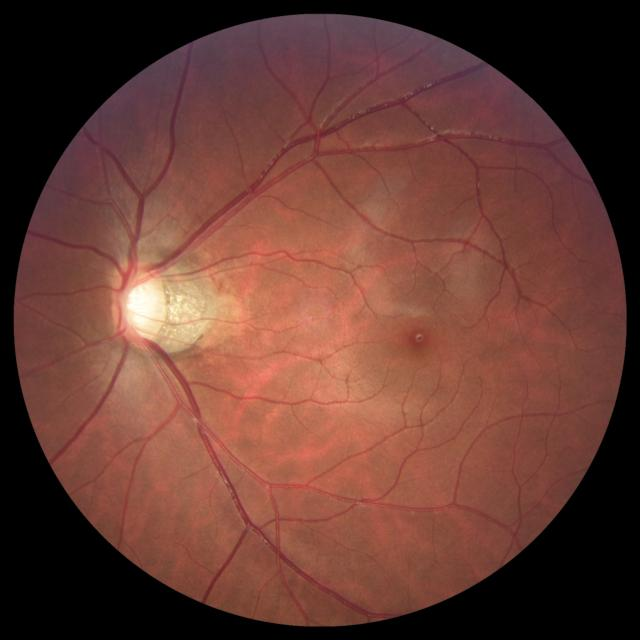OC: (122, 279, 158, 334)
OD: (106, 260, 170, 348)
